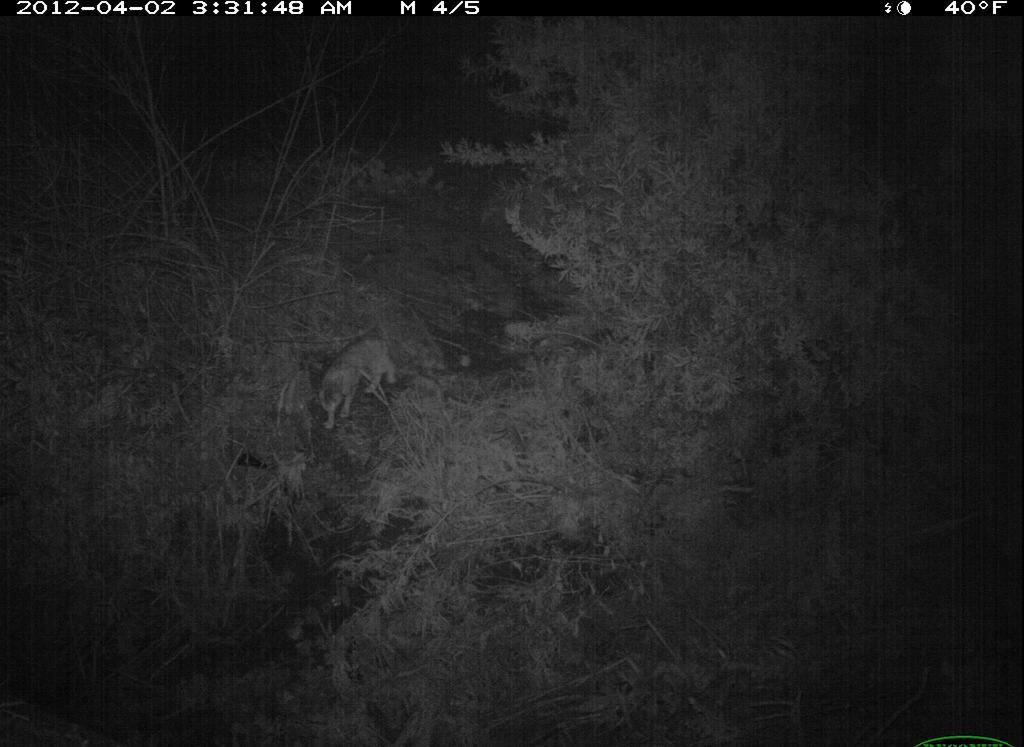cat: (308, 331, 401, 432)
